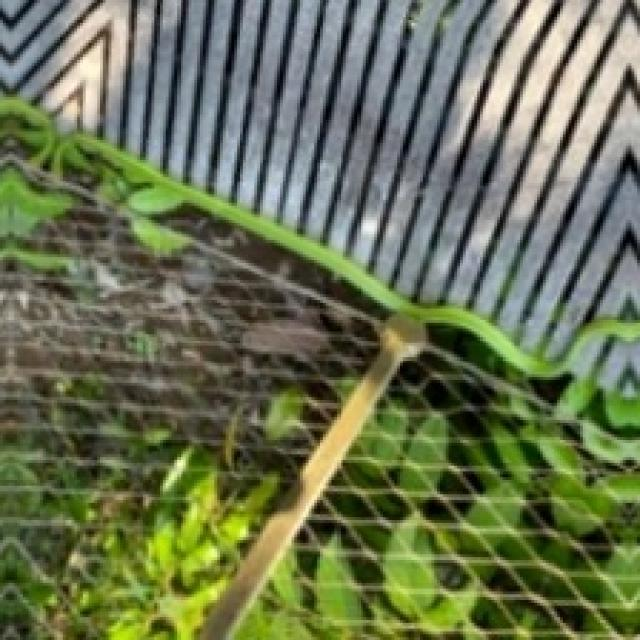red-tailed green ratsnake: (76, 138, 640, 379)
